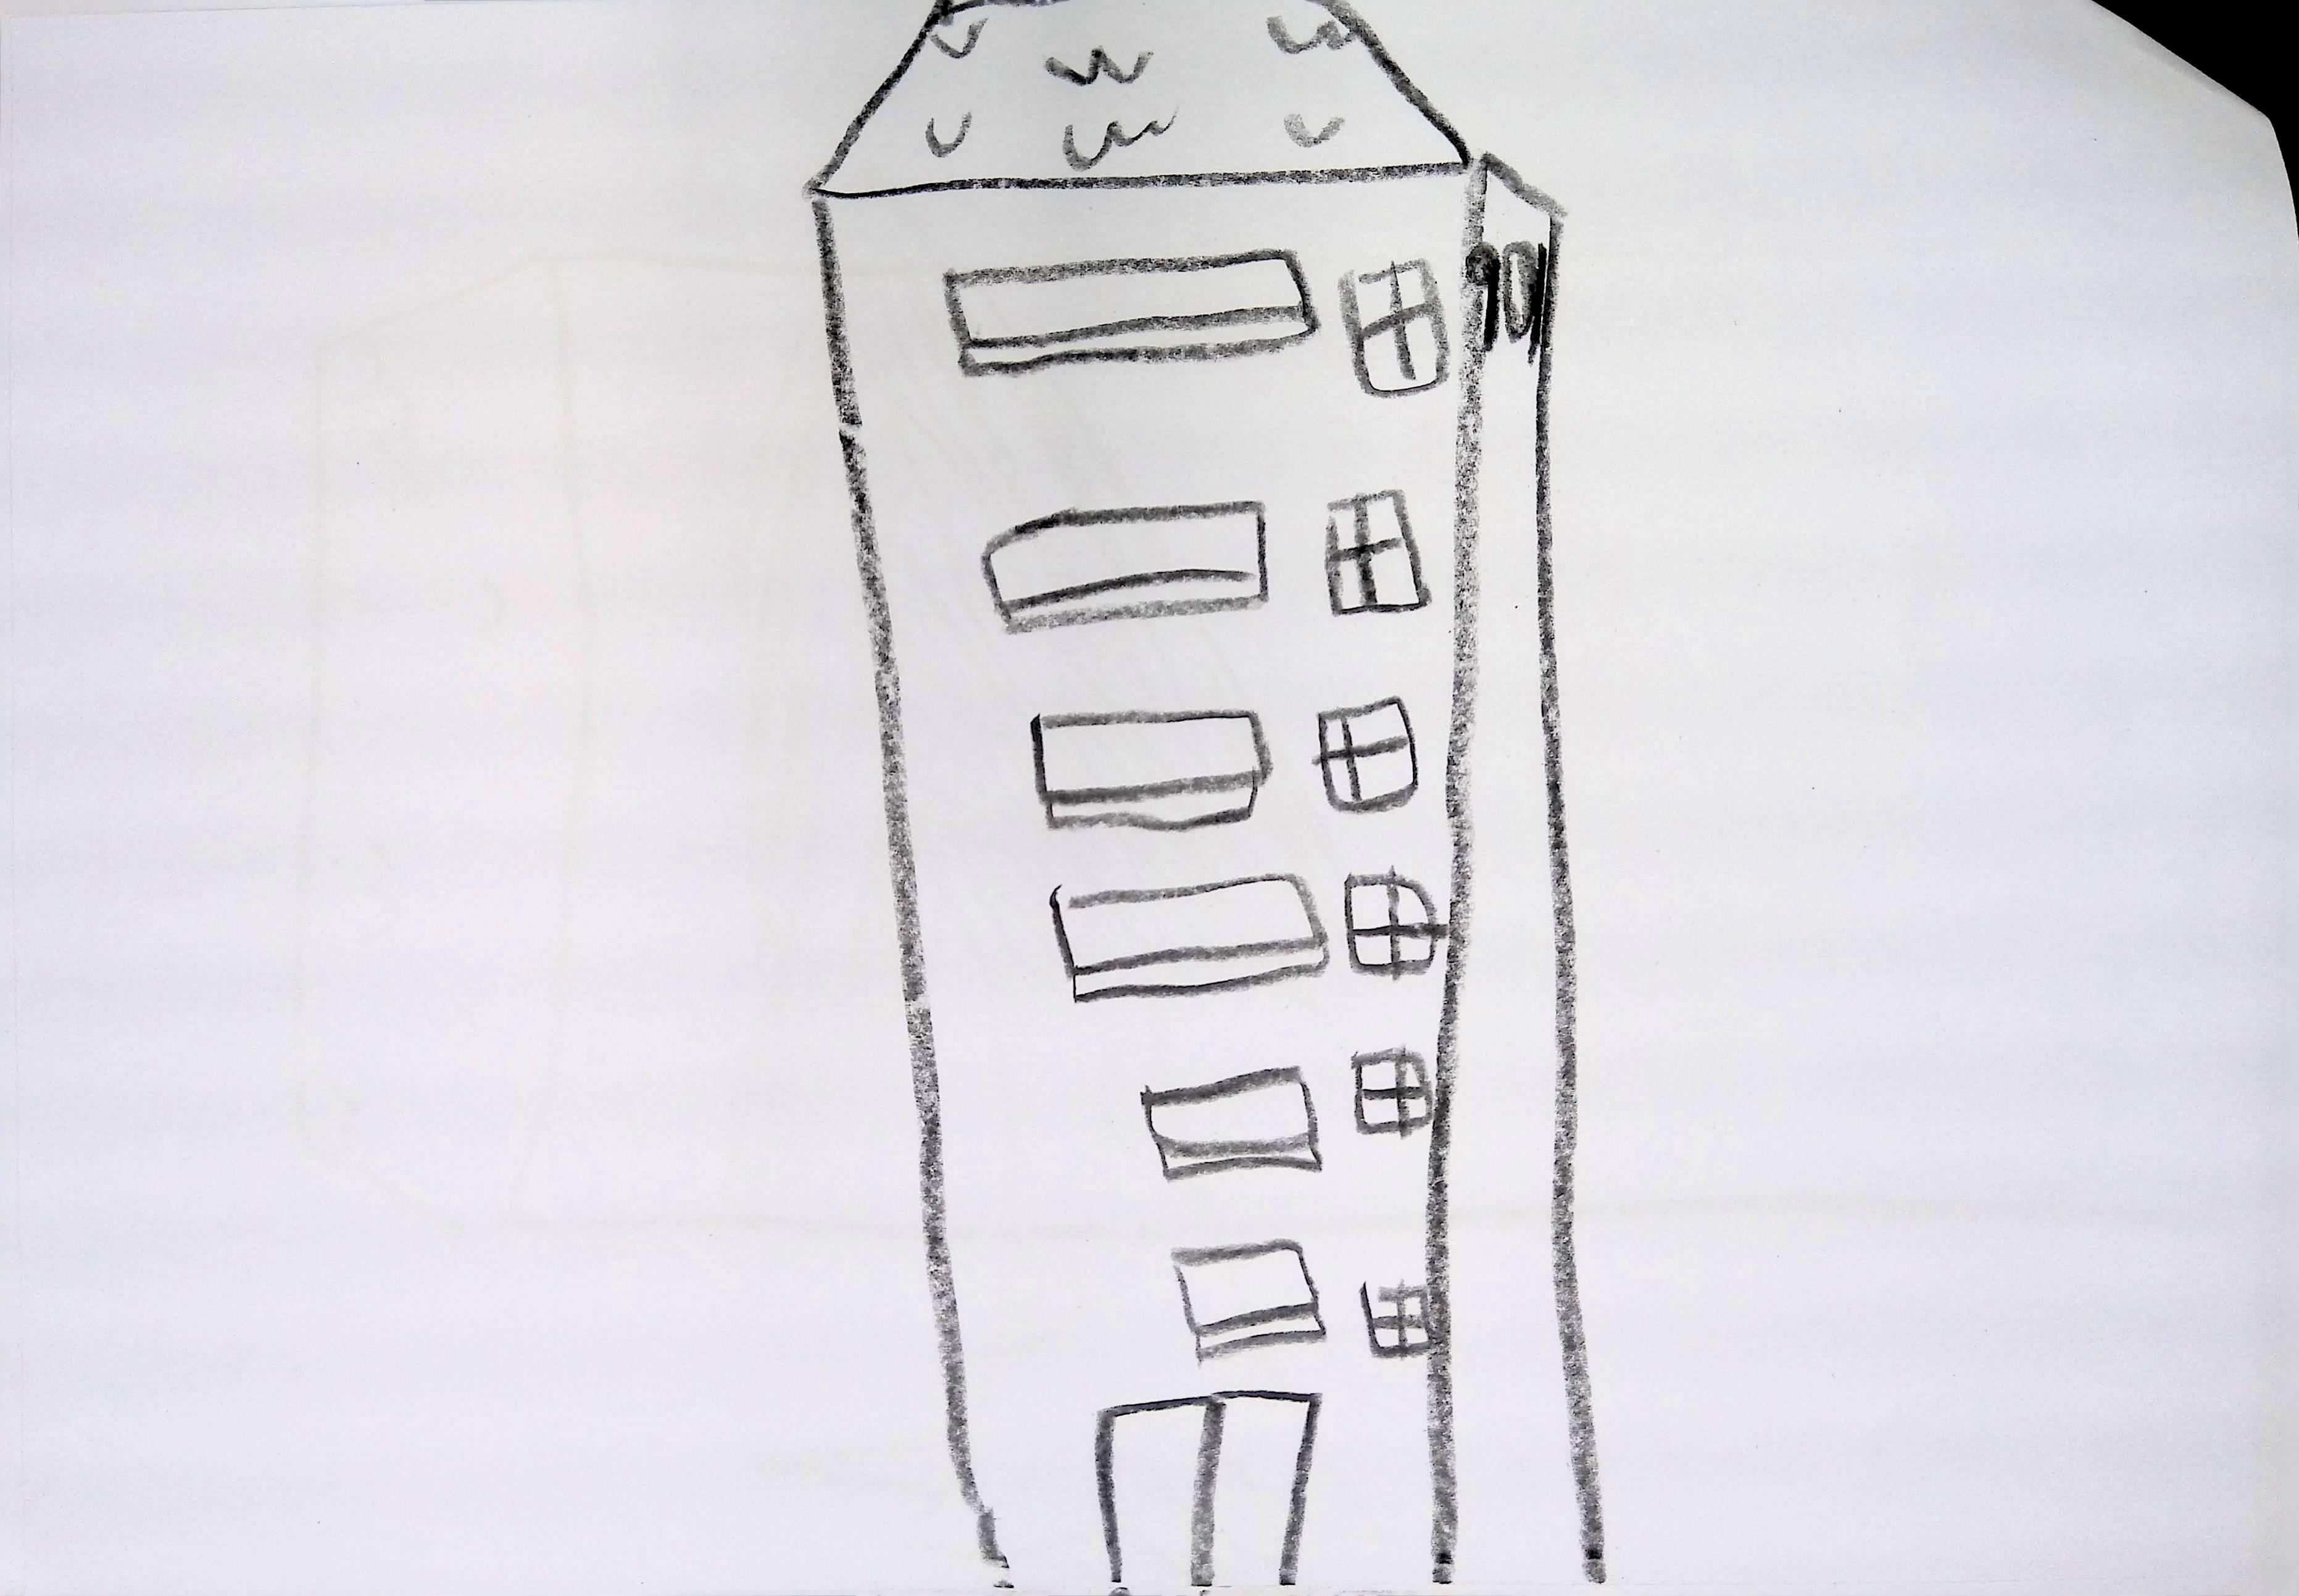chimney: (1436, 152, 1607, 1591)
door: (1095, 1393, 1319, 1594)
house: (809, 0, 1602, 1593)
roof: (818, 0, 1469, 194)
wall: (819, 168, 1483, 1596)
window: (945, 248, 1319, 372), (982, 499, 1268, 630), (1052, 873, 1329, 1002), (1032, 711, 1272, 829), (1143, 1067, 1322, 1180), (1172, 1240, 1326, 1364), (1342, 257, 1450, 393), (1326, 487, 1431, 613), (1317, 695, 1419, 812), (1347, 871, 1448, 976), (1352, 1048, 1434, 1135), (1361, 1285, 1434, 1359)
